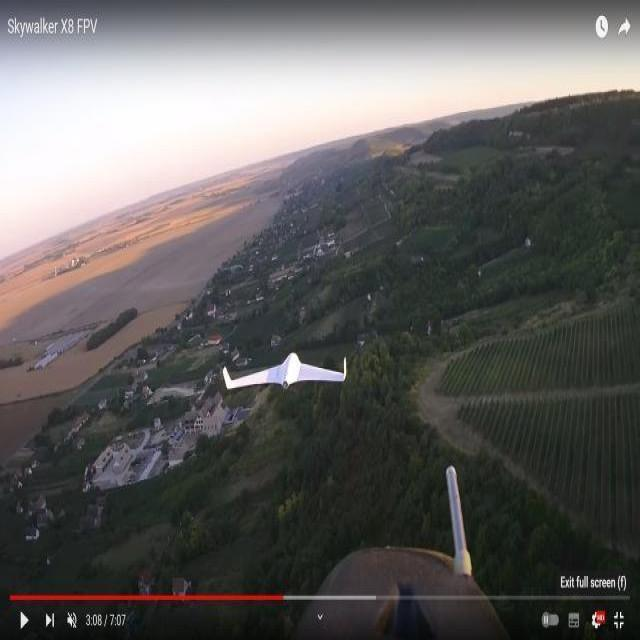iha: (218, 337, 392, 397)
